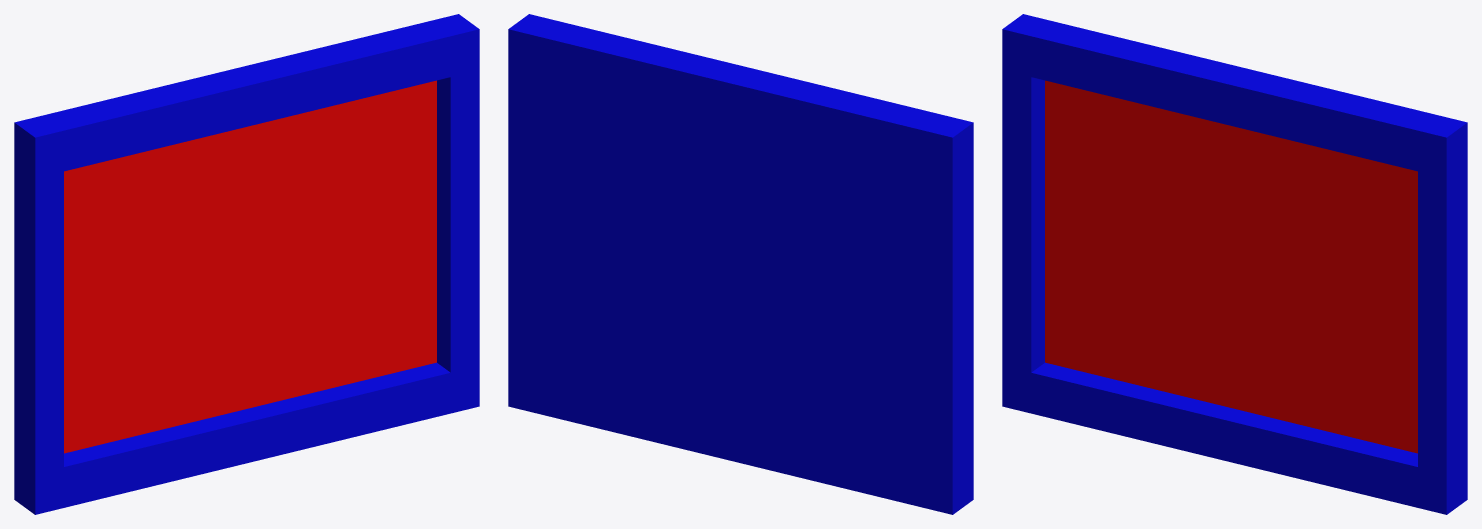
The model's file is Painting3.fbx.
3 renders of one model, left to right at view 1: azimuth 30°, elevation 25°; view 2: azimuth 150°, elevation 25°; view 3: azimuth 330°, elevation 25°, orthographic.
Parts seen in each view (by area): view 1: Cuadro003; view 2: Cuadro003; view 3: Cuadro003.
Part boxes in pixels (x1,y1,x2,y2): Cuadro003: (14,14,479,514); Cuadro003: (508,14,973,514); Cuadro003: (1002,14,1467,514).
Size of the model in its own units: 0.2824 by 0.2291 by 0.0229.
